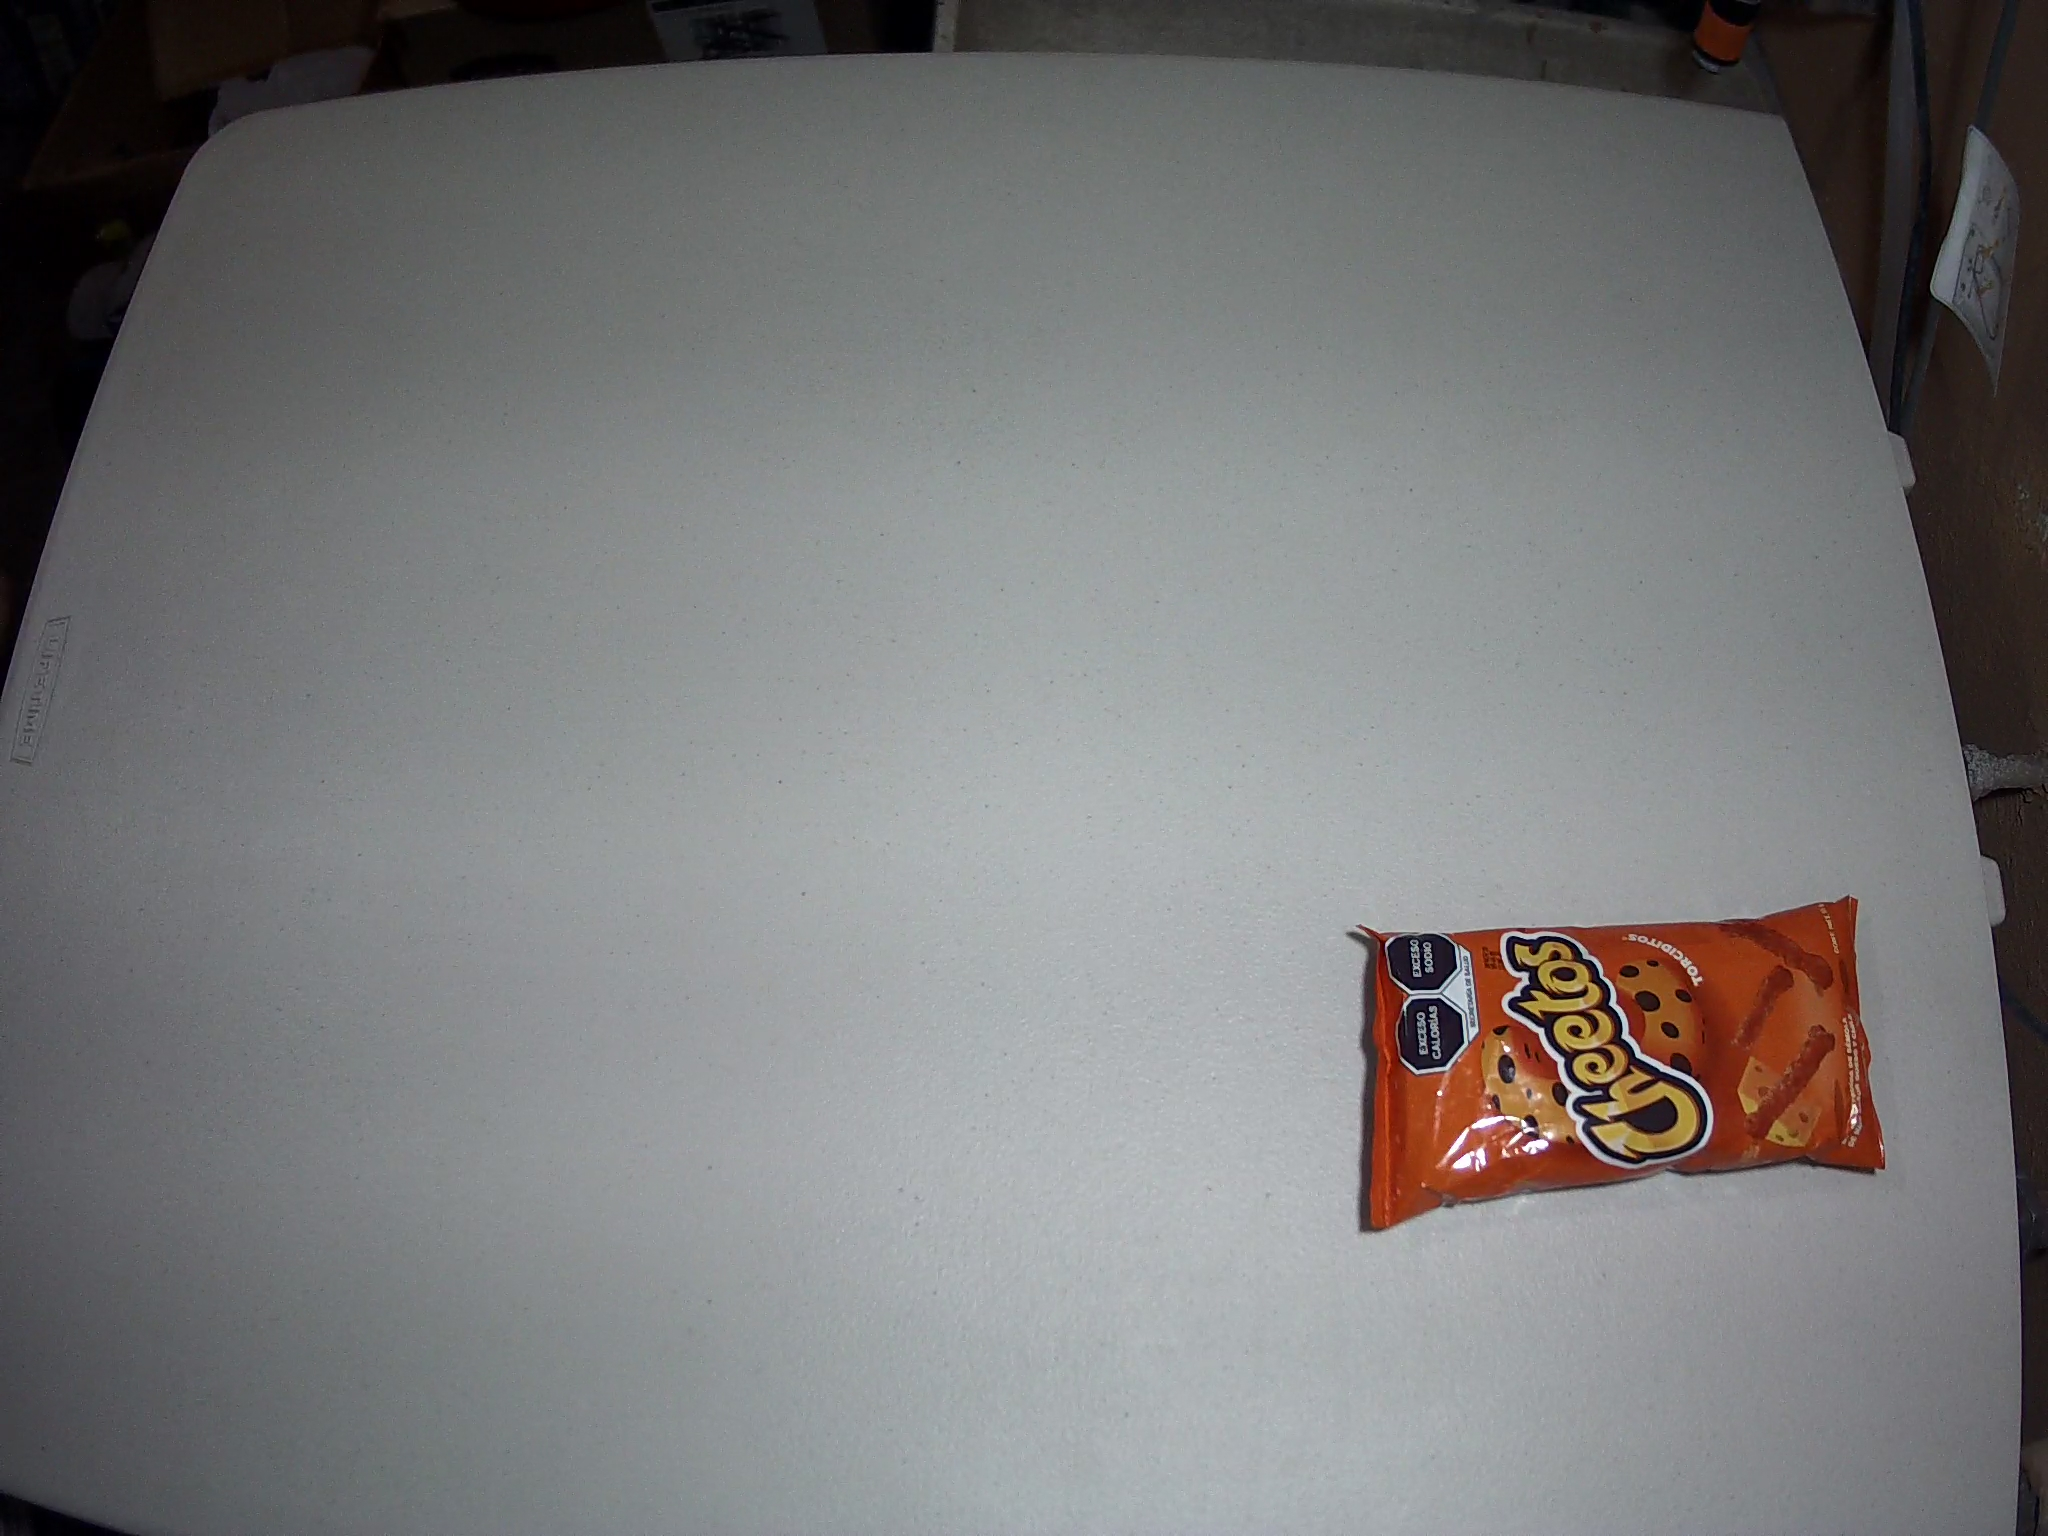CheetosTorciditos_55_F: (1355, 894, 1890, 1231)
